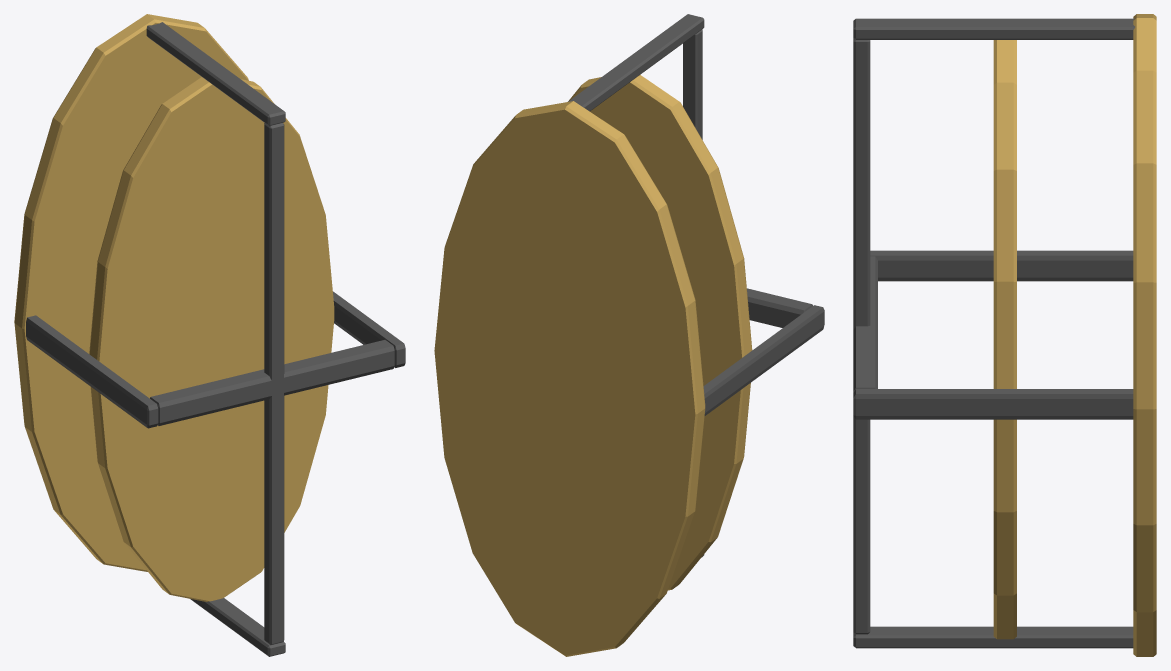
The model's file is CoffeeTable 1.fbx.
The picture shows the model from 3 angles, left to right: view 1: azimuth 30°, elevation 25°; view 2: azimuth 150°, elevation 25°; view 3: azimuth 270°, elevation 25°; orthographic projection. The views are drawn at different scales.
Visible parts, largest first — view 1: CoffeeTable; view 2: CoffeeTable; view 3: CoffeeTable.
Boxes of the visible parts, x1,y1,x2,y2 form: CoffeeTable: (14, 14, 405, 656); CoffeeTable: (434, 14, 824, 656); CoffeeTable: (853, 14, 1156, 656).
Bounding box in the file's own units: 0.7562 × 1.74 × 0.8724.
